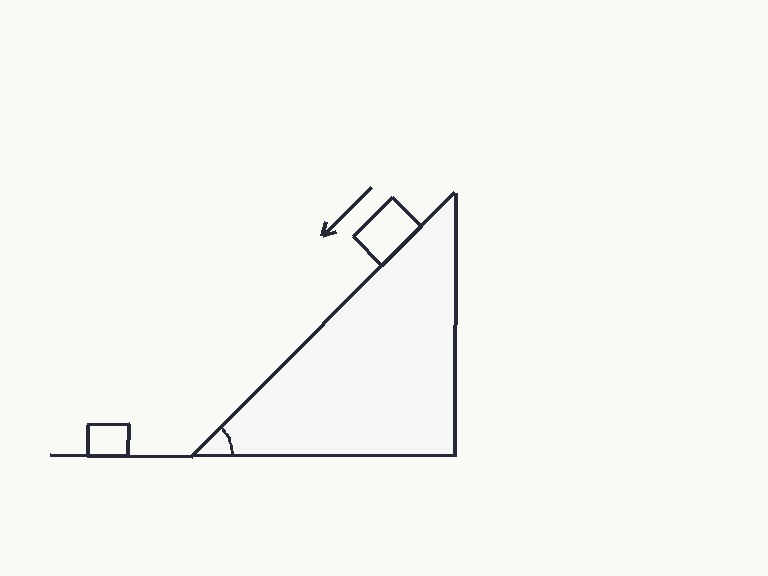block: (351, 195, 423, 267), (85, 422, 131, 457)
ramp: (190, 190, 457, 457)
